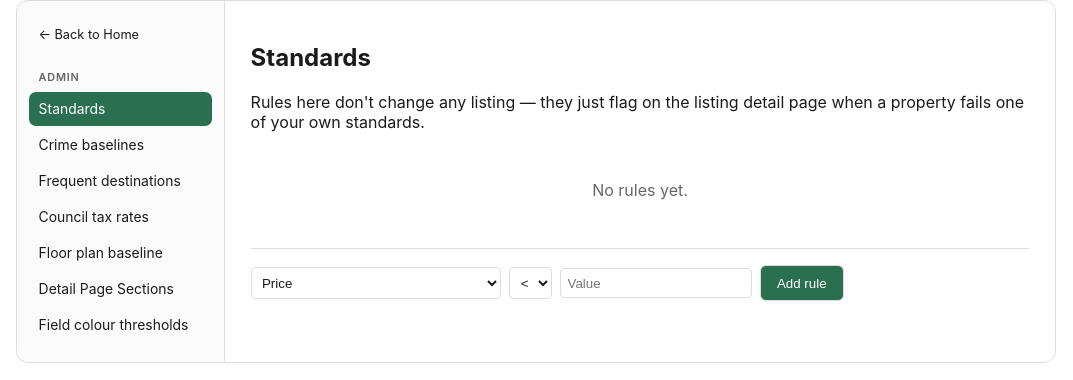
Test: AdminPage council tax rates › floor plan baseline panel shows the existing total and an edit link once a baseline image is set
Click the button "Floor plan baseline". click: (120, 253)
box: [29,236,212,270]
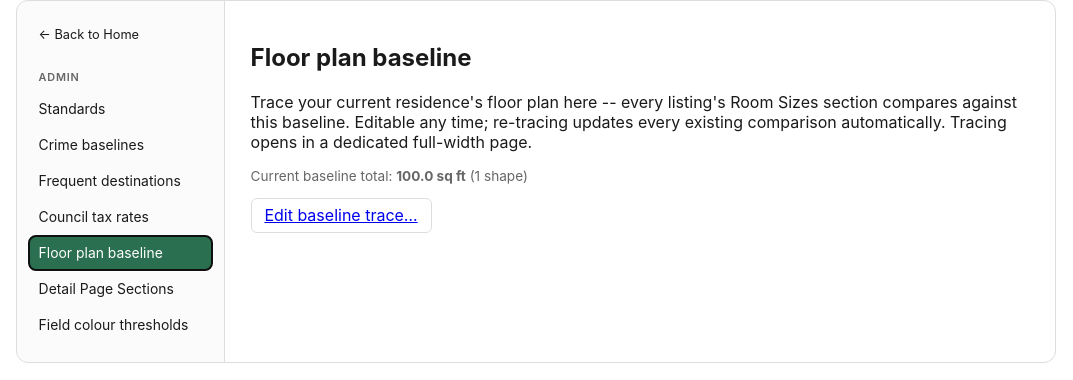
Result: the text "Current baseline total: 100.0 sq ft (1 shape)" is shown at [251,168,528,184]
